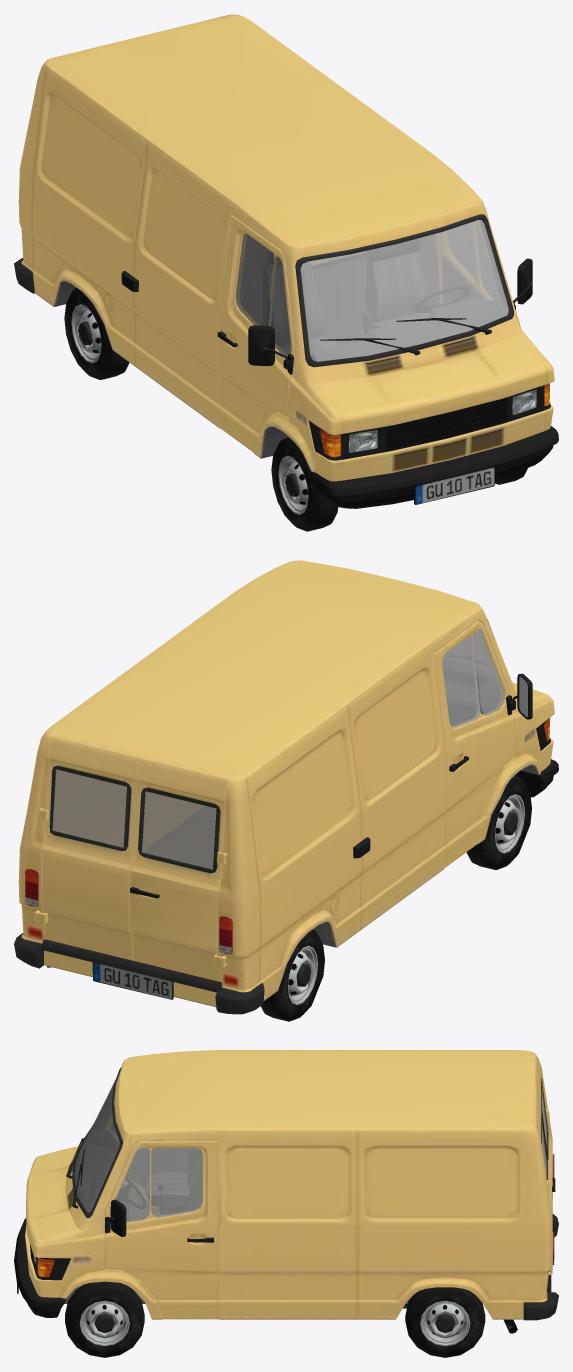
Rendered from tnvan.glb.
The picture shows the model from 3 angles, top to bottom: view 1: azimuth 30°, elevation 25°; view 2: azimuth 150°, elevation 25°; view 3: azimuth 270°, elevation 25°; orthographic projection. The views are drawn at different scales.
Visible parts, largest first — view 1: part59, part19, part39, part0, part38, wheel_RF, part9, wheel_RB, part5, part33, part60, part32 (+1 smaller); view 2: part59, part51, part46, part39, part41, part52, part38, wheel_RF, wheel_RB, part53, part19, part0 (+1 smaller); view 3: part59, part33, part32, wheel_LF, wheel_LB, part19, part39, part0, part3, part46, part51, part30 (+1 smaller).
Boxes of the visible parts, x1=… form: part59: x1=14, y1=14, x2=554, y2=481; part19: x1=300, y1=220, x2=508, y2=361; part39: x1=218, y1=215, x2=294, y2=452; part0: x1=310, y1=426, x2=558, y2=508; part38: x1=235, y1=233, x2=291, y2=356; wheel_RF: x1=271, y1=437, x2=338, y2=531; part9: x1=366, y1=250, x2=428, y2=321; wheel_RB: x1=64, y1=288, x2=129, y2=379; part5: x1=262, y1=252, x2=324, y2=345; part33: x1=436, y1=220, x2=493, y2=303; part60: x1=414, y1=466, x2=494, y2=504; part32: x1=448, y1=221, x2=499, y2=302; part59: x1=14, y1=560, x2=554, y2=1014; part51: x1=41, y1=737, x2=139, y2=960; part46: x1=130, y1=759, x2=227, y2=982; part39: x1=433, y1=621, x2=515, y2=867; part41: x1=141, y1=791, x2=216, y2=869; part52: x1=52, y1=769, x2=126, y2=847; part38: x1=442, y1=630, x2=504, y2=727; wheel_RF: x1=466, y1=775, x2=531, y2=869; wheel_RB: x1=261, y1=929, x2=324, y2=1021; part53: x1=92, y1=962, x2=173, y2=999; part19: x1=444, y1=631, x2=493, y2=674; part0: x1=515, y1=759, x2=558, y2=797; part59: x1=25, y1=1050, x2=558, y2=1320; part33: x1=104, y1=1140, x2=218, y2=1319; part32: x1=110, y1=1148, x2=202, y2=1222; wheel_LF: x1=65, y1=1281, x2=144, y2=1357; wheel_LB: x1=405, y1=1287, x2=485, y2=1357; part19: x1=74, y1=1079, x2=119, y2=1212; part39: x1=106, y1=1116, x2=190, y2=1207; part0: x1=14, y1=1218, x2=66, y2=1317; part3: x1=146, y1=1172, x2=189, y2=1206; part46: x1=536, y1=1056, x2=552, y2=1201; part51: x1=536, y1=1091, x2=552, y2=1215; part30: x1=110, y1=1199, x2=126, y2=1236.
Size of the model in its own units: 2.57 by 2.43 by 5.2.
Materials: 5 (4 with a texture image).
